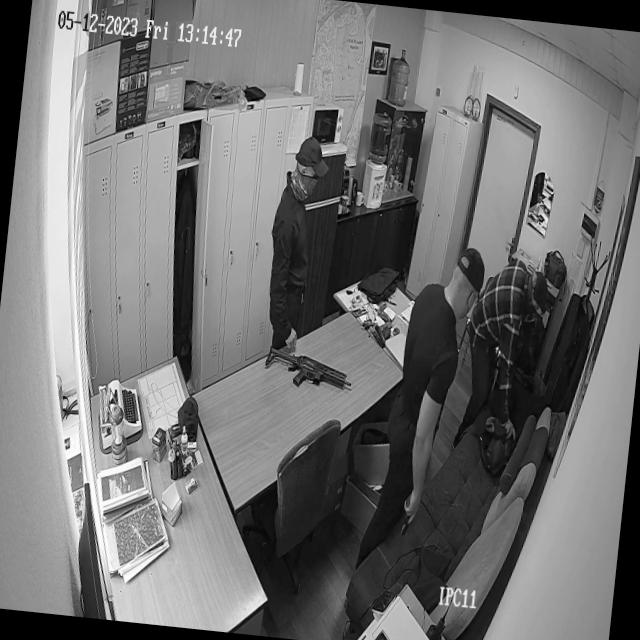gun: (264, 343, 354, 392), (397, 490, 420, 540)
person: (470, 252, 558, 399)
person with a gun: (378, 245, 475, 541), (262, 133, 342, 370)
